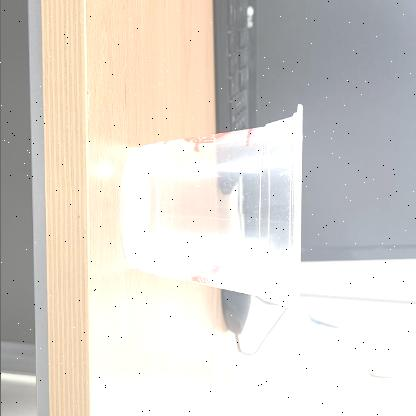Others: (120, 101, 304, 327)
